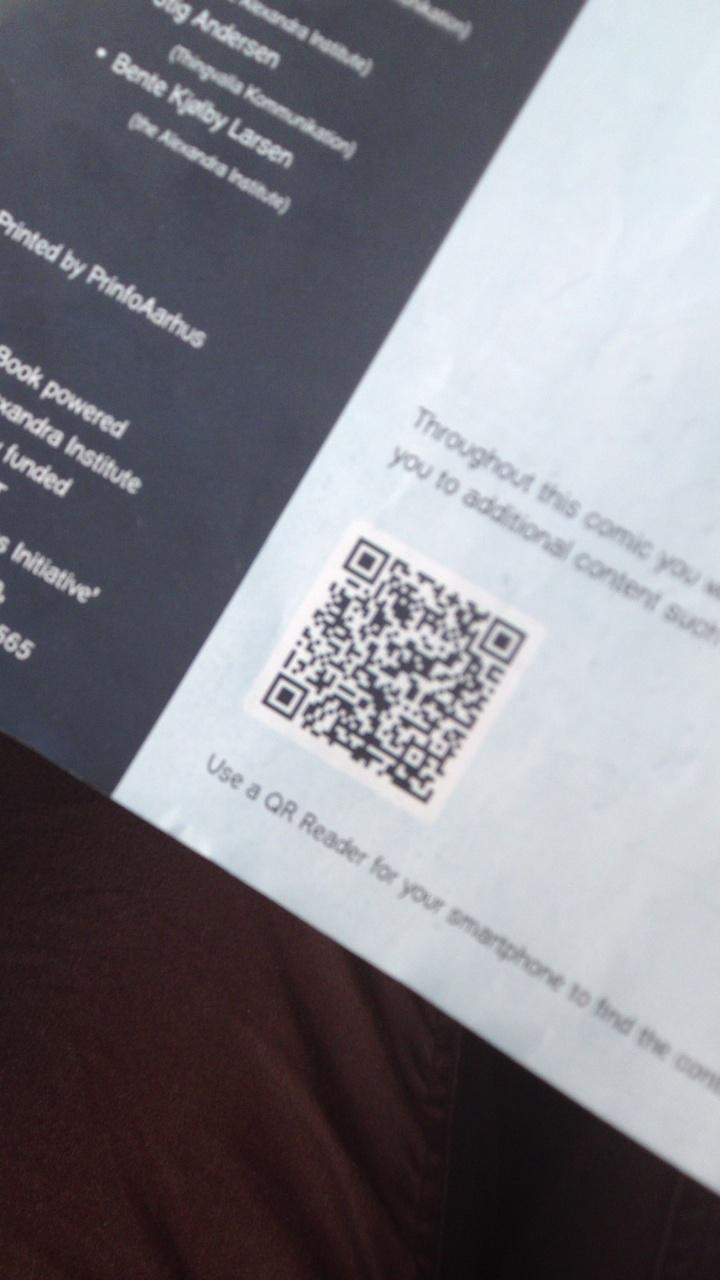Finder pattern: (474, 610, 531, 669), (259, 666, 312, 725), (340, 530, 393, 588)
